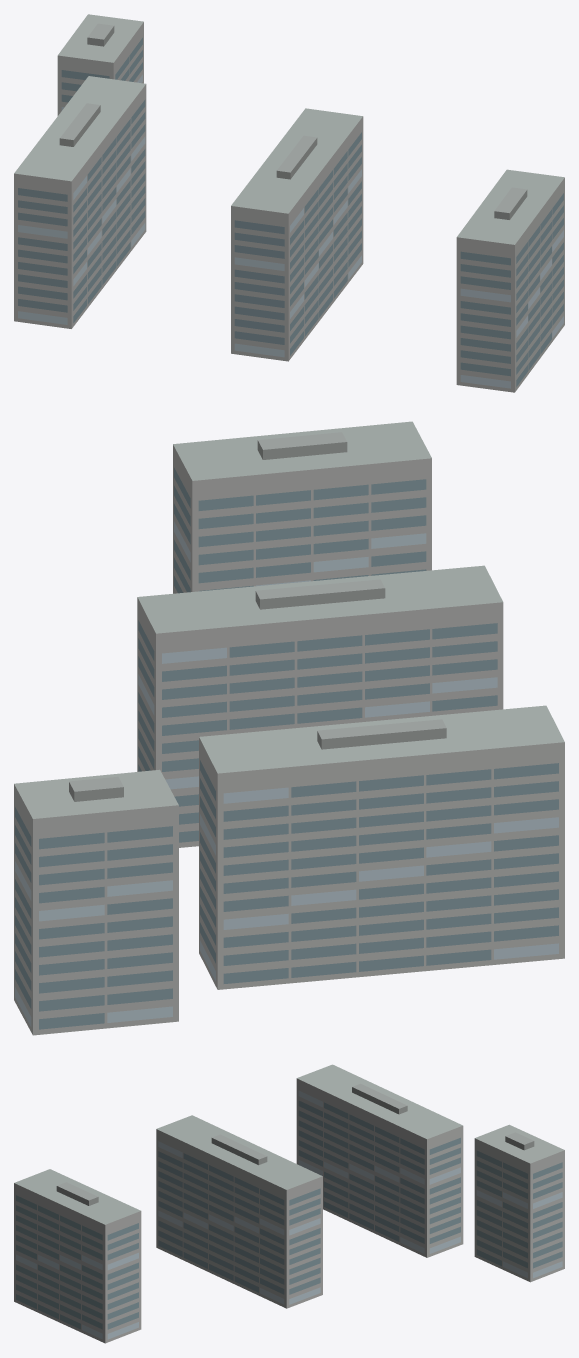
File: apt-a13285503.glb
3 renders of one model, top to bottom at view 1: azimuth 30°, elevation 25°; view 2: azimuth 150°, elevation 25°; view 3: azimuth 270°, elevation 25°, orthographic. The views are drawn at different scales.
Visible parts, largest first — view 1: apt-a13285503; view 2: apt-a13285503; view 3: apt-a13285503.
Boxes of the visible parts, x1,y1,x2,y2 form: apt-a13285503: (14, 14, 564, 392); apt-a13285503: (14, 421, 564, 1035); apt-a13285503: (14, 1064, 564, 1343).
Bounding box in the file's own units: 94.12 × 34 × 137.
